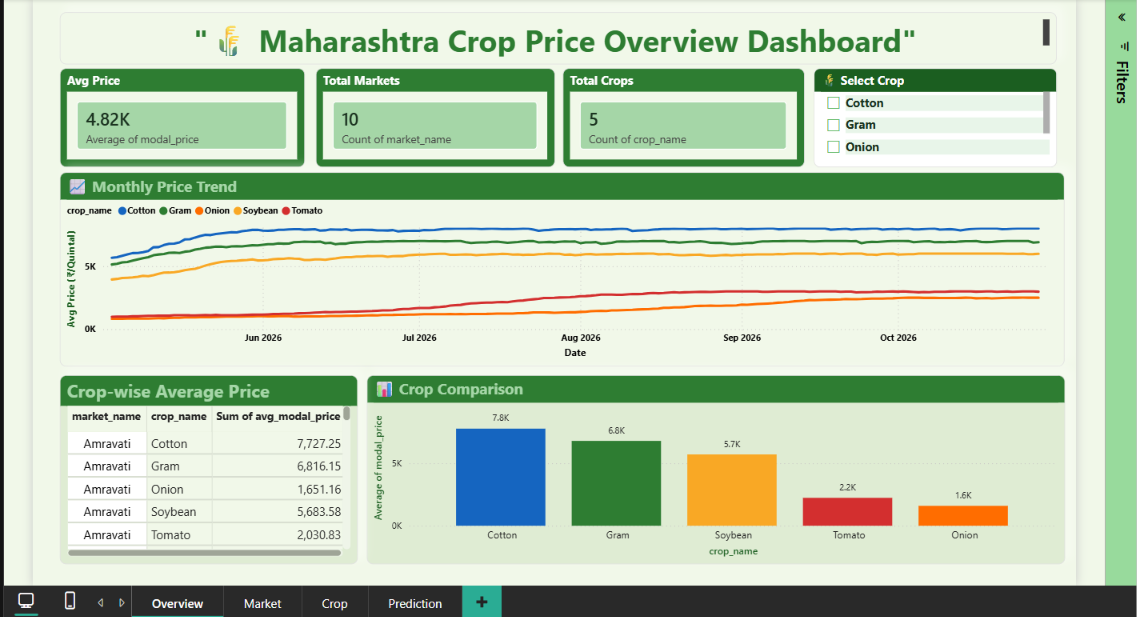

What the dashboard file says about the page in this screenshot:
{"tool":"powerbi","page":{"name":"Overview","canvas":[1280,720],"ordinal":0},"visuals":[{"type":"cardVisual","title":"Avg Price","fields":{"Data":["Avg(crop_prices.modal_price)"]},"box":[33.1,84.7,300.6,121.5],"z":0},{"type":"lineChart","title":"📈 Monthly Price Trend","fields":{"Category":["crop_prices.price_date"],"Series":["crop_prices.crop_name"],"Y":["Avg(crop_prices.modal_price)"]},"box":[33.1,212.3,1233.1,238],"z":1000},{"type":"clusteredColumnChart","title":"📊 Crop Comparison","fields":{"Category":["crop_prices.crop_name"],"Y":["Avg(crop_prices.modal_price)"]},"box":[409.8,461.4,856.4,231.9],"z":2000},{"type":"tableEx","title":"Crop-wise Average Price","fields":{"Values":["market_summary.market_name","market_summary.crop_name","Sum(market_summary.avg_modal_price)"]},"box":[33.1,461.4,365.6,231.9],"z":3000},{"type":"slicer","title":"🌾 Select Crop","fields":{"Values":["crop_prices.crop_name"]},"box":[958.3,84.7,298.2,121.5],"z":4000},{"type":"textbox","box":[33.1,16,1223.3,63.8],"z":5000},{"type":"cardVisual","title":"Total Markets","fields":{"Data":["CountNonNull(markets.market_name)"]},"box":[347.2,84.7,293.3,121.5],"z":6000},{"type":"cardVisual","title":"Total Crops","fields":{"Data":["Count(crop_prices.crop_name)"]},"box":[650.3,84.7,296.9,121.5],"z":7000}]}

Visuals, with their boxes on the page's 1280x720 design canvas (x1, y1, x2, y2). These are canvas units, not pixel positions in the 1137x617 screenshot, which may show the page scaled, cropped or inside an application window:
"Avg Price" cardVisual: rect(33, 85, 334, 206)
"📈 Monthly Price Trend" lineChart: rect(33, 212, 1266, 450)
"📊 Crop Comparison" clusteredColumnChart: rect(410, 461, 1266, 693)
"Crop-wise Average Price" tableEx: rect(33, 461, 399, 693)
"🌾 Select Crop" slicer: rect(958, 85, 1256, 206)
textbox: rect(33, 16, 1256, 80)
"Total Markets" cardVisual: rect(347, 85, 640, 206)
"Total Crops" cardVisual: rect(650, 85, 947, 206)
